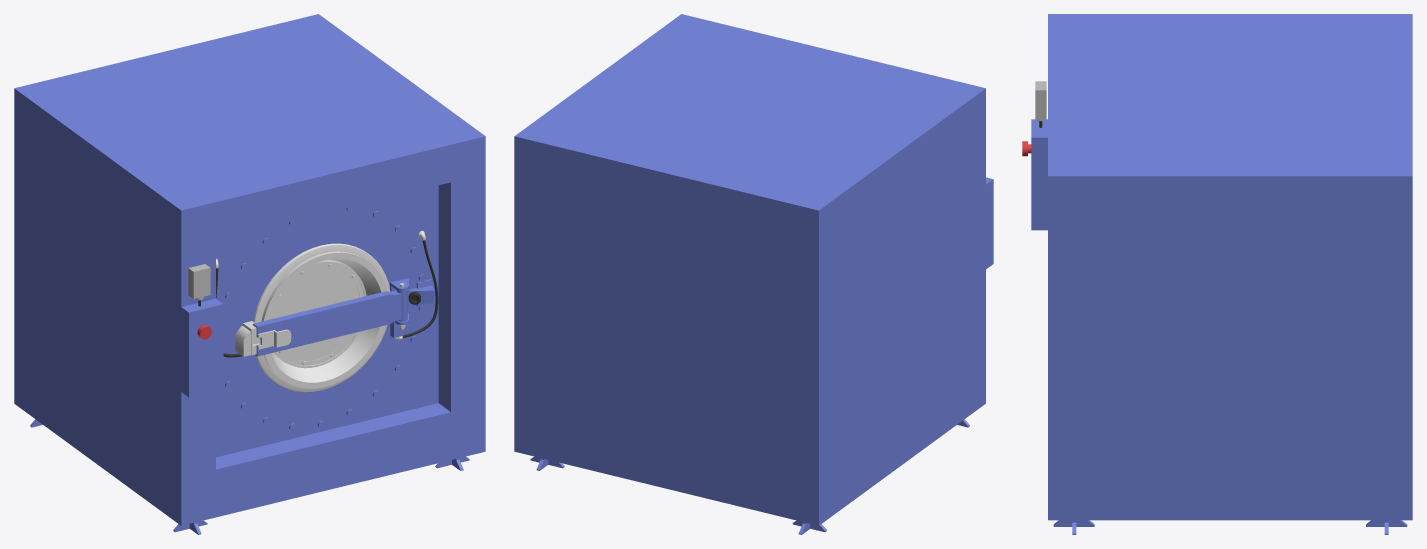
Rendered from Waching_Machine.fbx.
The picture shows the model from 3 angles, left to right: view 1: azimuth 30°, elevation 25°; view 2: azimuth 150°, elevation 25°; view 3: azimuth 270°, elevation 25°; orthographic projection. The views are drawn at different scales.
Parts seen in each view (by area): view 1: Wahing_Machine_Base, Wahing_Machine_Door; view 2: Wahing_Machine_Base; view 3: Wahing_Machine_Base.
Boxes of the visible parts, <box> form: Wahing_Machine_Base: <box>14,14,485,534</box>; Wahing_Machine_Door: <box>253,251,407,388</box>; Wahing_Machine_Base: <box>514,14,993,534</box>; Wahing_Machine_Base: <box>1031,14,1412,534</box>.
Bounding box in the file's own units: 2.15 × 2.24 × 2.19.
